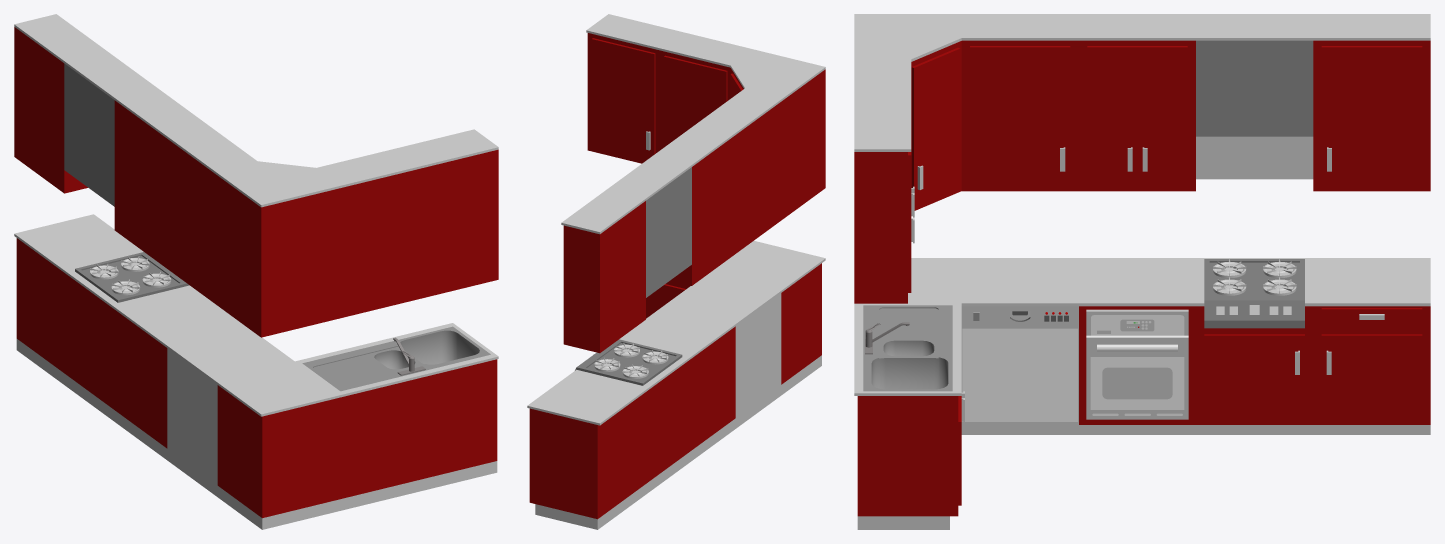
3 renders of one model, left to right at view 1: azimuth 30°, elevation 25°; view 2: azimuth 150°, elevation 25°; view 3: azimuth 270°, elevation 25°, orthographic. The views are drawn at different scales.
Visible parts, largest first — view 1: Group_046, Group_002, Lumber_2x4_12feet_036, Lumber_2x4_12feet_035, Lumber_2x4_12feet_040, Lumber_2x4_12feet_034, Lumber_2x4_12feet_026, Lumber_2x4_12feet_031, P_sink_kitchen1_001, Group_045, Lumber_2x4_12feet_001, Lumber_2x4_12feet_004 (+22 smaller); view 2: Lumber_2x4_12feet_007, Lumber_2x4_12feet_034, Lumber_2x4_12feet_014, Lumber_2x4_12feet_026, Lumber_2x4_12feet_031, Group_046, Group_045, Lumber_2x4_12feet_001, Lumber_2x4_12feet_010, Lumber_2x4_12feet_004, Lumber_2x4_12feet_036, Lumber_2x4_12feet_009 (+22 smaller); view 3: Group_045, Lumber_2x4_12feet_017, Lumber_2x4_12feet_033, Dishwasher_UnderCounter_28in_001, Group_002, Wall_Oven_24in_001, Lumber_2x4_12feet_015, Lumber_2x4_12feet_022, Lumber_2x4_12feet_035, P_sink_kitchen1_001, Lumber_2x4_12feet_025, Lumber_2x4_12feet_021 (+29 smaller).
Boxes of the visible parts, box(x1,y1,x2,y2) form: Group_046: box(215, 174, 340, 337); Group_002: box(339, 359, 497, 499); Lumber_2x4_12feet_036: box(217, 385, 339, 518); Lumber_2x4_12feet_035: box(420, 149, 498, 298); Lumber_2x4_12feet_040: box(341, 169, 419, 317); Lumber_2x4_12feet_034: box(14, 27, 87, 193); Lumber_2x4_12feet_026: box(114, 100, 164, 266); Lumber_2x4_12feet_031: box(165, 137, 215, 303); P_sink_kitchen1_001: box(302, 326, 490, 391); Group_045: box(64, 63, 114, 206); Lumber_2x4_12feet_001: box(117, 312, 167, 448); Lumber_2x4_12feet_004: box(67, 275, 117, 411); Lumber_2x4_12feet_007: box(529, 394, 643, 519); Lumber_2x4_12feet_034: box(563, 201, 645, 353); Lumber_2x4_12feet_014: box(591, 38, 655, 160); Lumber_2x4_12feet_026: box(670, 134, 737, 285); Lumber_2x4_12feet_031: box(737, 100, 783, 251); Group_046: box(732, 69, 825, 218); Group_045: box(646, 167, 691, 297); Lumber_2x4_12feet_001: box(689, 326, 735, 451); Lumber_2x4_12feet_010: box(735, 293, 781, 417); Lumber_2x4_12feet_004: box(643, 360, 689, 485); Lumber_2x4_12feet_036: box(781, 263, 821, 384); Lumber_2x4_12feet_009: box(527, 372, 645, 425); Group_045: box(1196, 40, 1313, 179); Lumber_2x4_12feet_017: box(1321, 46, 1422, 185); Lumber_2x4_12feet_033: box(970, 46, 1070, 185); Dishwasher_UnderCounter_28in_001: box(961, 306, 1078, 421); Group_002: box(857, 396, 958, 516); Wall_Oven_24in_001: box(1086, 309, 1188, 419); Lumber_2x4_12feet_015: box(1321, 334, 1422, 418); Lumber_2x4_12feet_022: box(1204, 334, 1304, 418); Lumber_2x4_12feet_035: box(854, 152, 907, 303); P_sink_kitchen1_001: box(863, 305, 952, 391); Lumber_2x4_12feet_025: box(1137, 46, 1187, 185); Lumber_2x4_12feet_021: box(1087, 46, 1137, 185).
Bounding box in the file's own units: 5.47 × 7.19 × 9.86.
